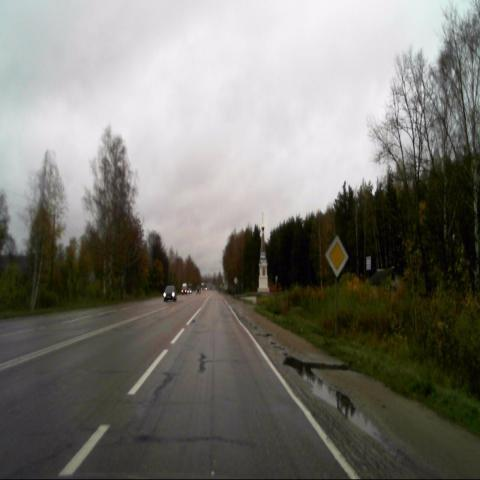2_1: (323, 234, 349, 281)
